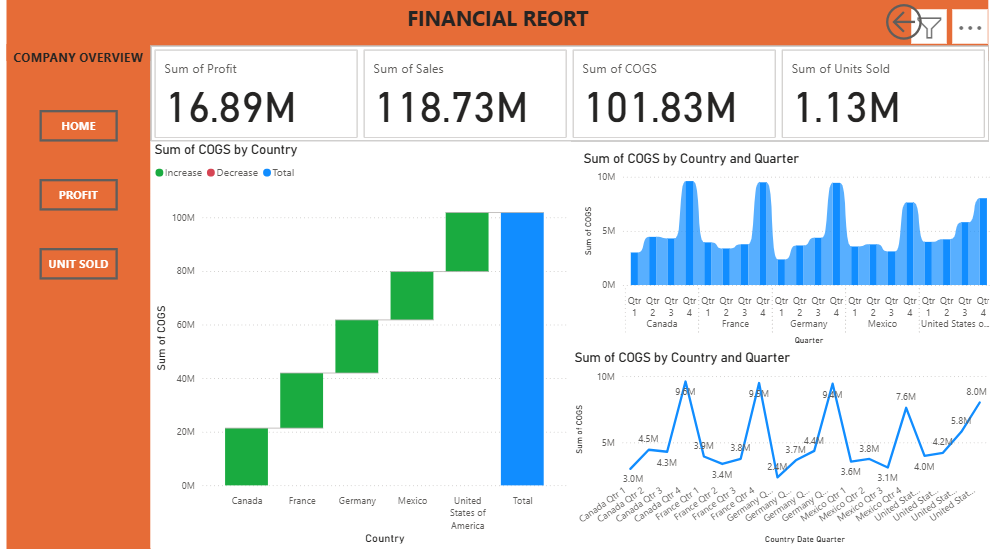

This screenshot's page, from the dashboard's own definition file:
{"tool":"powerbi","page":{"name":"COGS","canvas":[1280,720],"ordinal":3},"visuals":[{"type":"textbox","box":[9.7,0,1259.8,79.3],"z":0},{"type":"textbox","box":[9.7,58.3,184.6,662.3],"z":1000},{"type":"lineChart","fields":{"Y":["Sum(financials.COGS)"],"Category":["financials.Country","financials.Date.Variation.Date Hierarchy.Quarter"]},"box":[733.2,449.6,538.7,253.2],"z":2000},{"type":"cardVisual","fields":{"Data":["Sum(financials.Profit)","Sum(financials. Sales)","Sum(financials.COGS)","Sum(financials.Units Sold)"]},"box":[194.4,58.7,1075.4,123.5],"z":3000},{"type":"ribbonChart","fields":{"Category":["financials.Country","financials.Date.Variation.Date Hierarchy.Quarter"],"Y":["Sum(financials.COGS)"]},"box":[743.3,194.4,536.7,253.2],"z":4000},{"type":"waterfallChart","fields":{"Y":["Sum(financials.COGS)"],"Category":["financials.Country","financials.Date.Variation.Date Hierarchy.Quarter"]},"box":[194.4,182.3,538.7,520.5],"z":5000},{"type":"actionButton","box":[51.8,231.5,100.4,40.5],"z":6000},{"type":"actionButton","box":[51.8,319,100.4,40.5],"z":7000},{"type":"actionButton","box":[51.8,142.5,100.4,40.5],"z":8000},{"type":"actionButton","box":[1130.1,0,149.9,58.7],"z":9000}]}

Visuals, with their boxes in screenshot pixels (x1, y1, x2, y2), scaled from the page's 1280x720 canvas onto the 991x549 screenshot:
textbox: <box>8,0,983,60</box>
textbox: <box>8,44,150,548</box>
lineChart - Sum(financials.COGS) x financials.Country: <box>568,343,985,536</box>
cardVisual - Sum(financials.Profit) x Sum(financials. Sales): <box>151,45,983,139</box>
ribbonChart - financials.Country x financials.Date.Variation.Date Hierarchy.Quarter: <box>575,148,990,341</box>
waterfallChart - Sum(financials.COGS) x financials.Country: <box>151,139,568,536</box>
actionButton: <box>40,177,118,207</box>
actionButton: <box>40,243,118,274</box>
actionButton: <box>40,109,118,140</box>
actionButton: <box>875,0,990,45</box>
